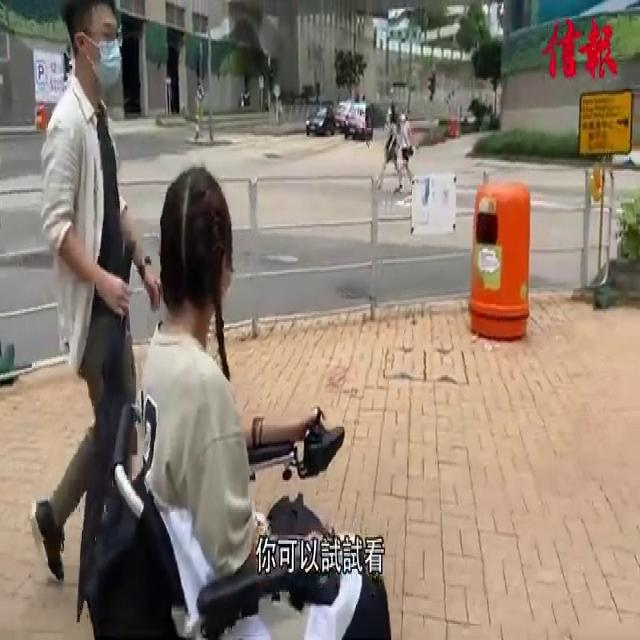wheelchairs: (76, 348, 395, 640)
